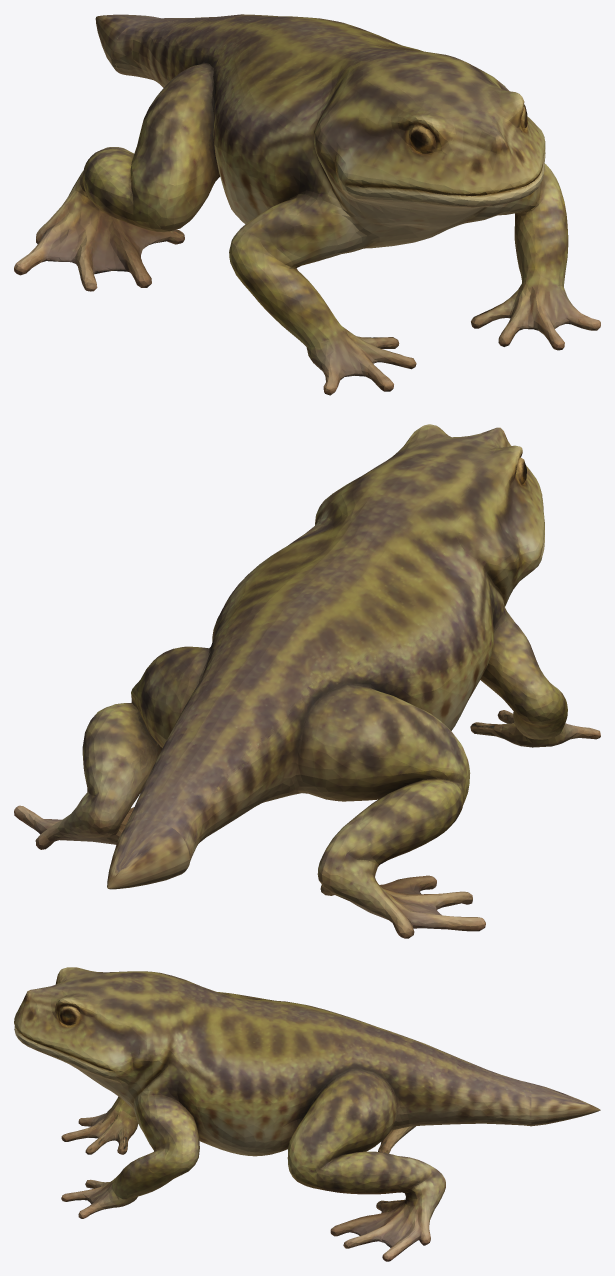
3 renders of one model, top to bottom at view 1: azimuth 30°, elevation 25°; view 2: azimuth 150°, elevation 25°; view 3: azimuth 270°, elevation 25°, orthographic. The views are drawn at different scales.
Parts seen in each view (by area): view 1: world; view 2: world; view 3: world.
Part boxes in pixels (left/top/right/bottom): world: left=14, top=14, right=600, bottom=395; world: left=14, top=424, right=600, bottom=938; world: left=14, top=967, right=600, bottom=1261.
Bounding box in the file's own units: 0.6667 × 0.3865 × 0.9996.
2 materials, 2 textured.
